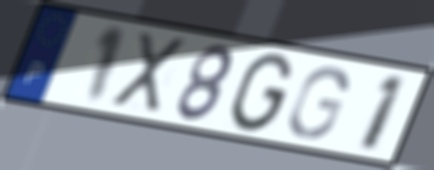1: (359, 72, 407, 156), (85, 25, 128, 108)
8: (175, 42, 236, 123)
G: (225, 51, 295, 135), (285, 65, 351, 141)
X: (108, 29, 189, 115)
